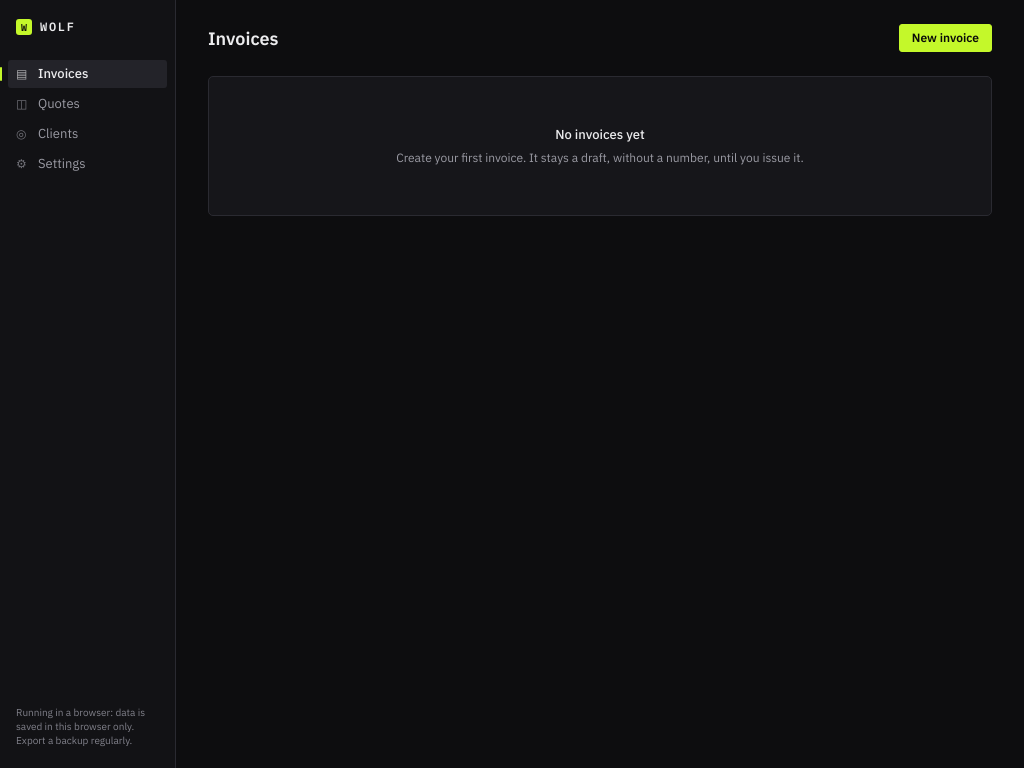
Test: writing an invoice › blocks issuing and explains why when details are missing
Click the button "New invoice" at (945, 38), box [899,24,992,52]
(page scrolled)
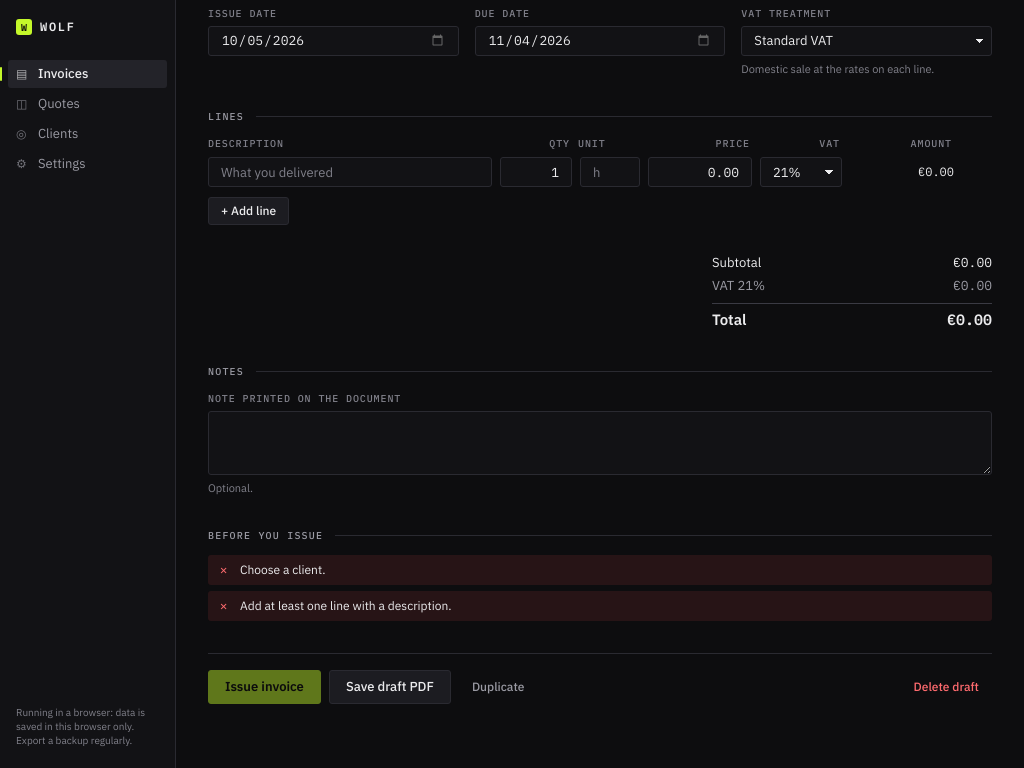
Expected: the button "Issue invoice" is disabled, [208,670,321,704]
Expected: the text "Choose a client." is shown, [240,561,325,579]
Expected: the text "Add at least one line with a description." is shown, [240,597,452,615]
